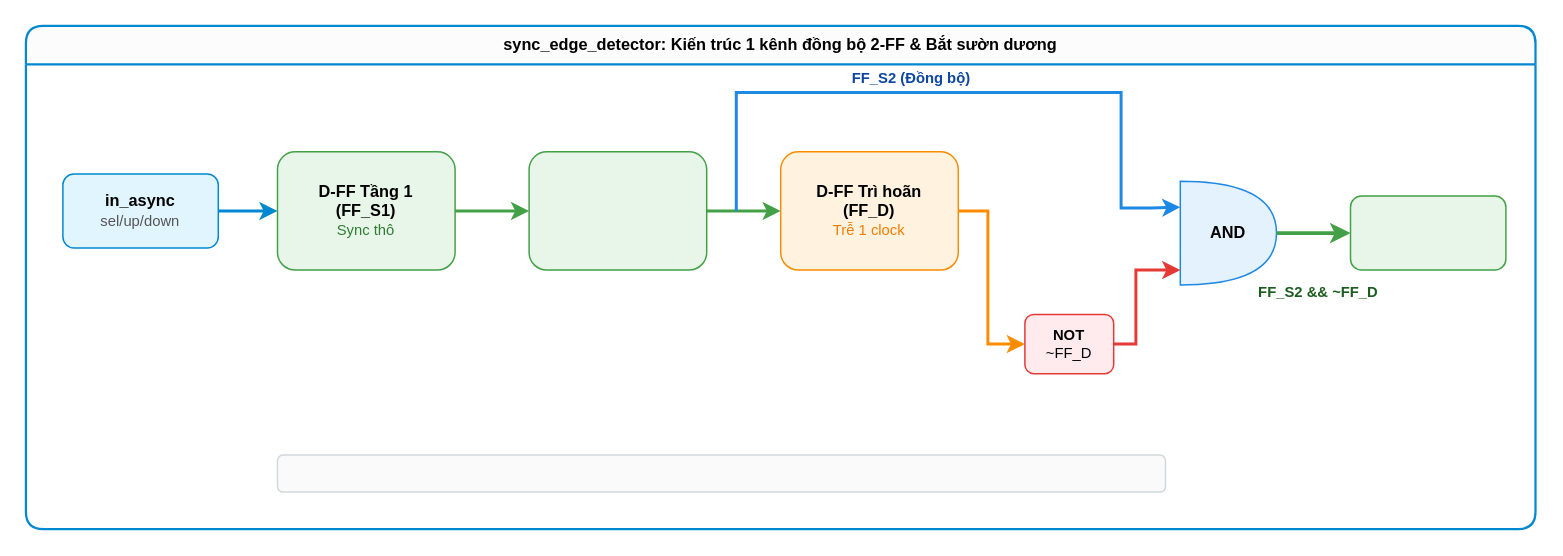
Image size: 1563x556. Some labels were removed from this diagram. Each missing label, with the centre of its shape:
"clk (1 MHz) & rstn (Active-Low) cấp trực tiếp đến tất cả các Flip-Flop" goes at (x=721, y=473).
"D-FF Tầng 2 (FF_S2) Khử Metastable" goes at (x=617, y=210).
"out_pulse 1-cycle pulse" goes at (x=1427, y=232).
